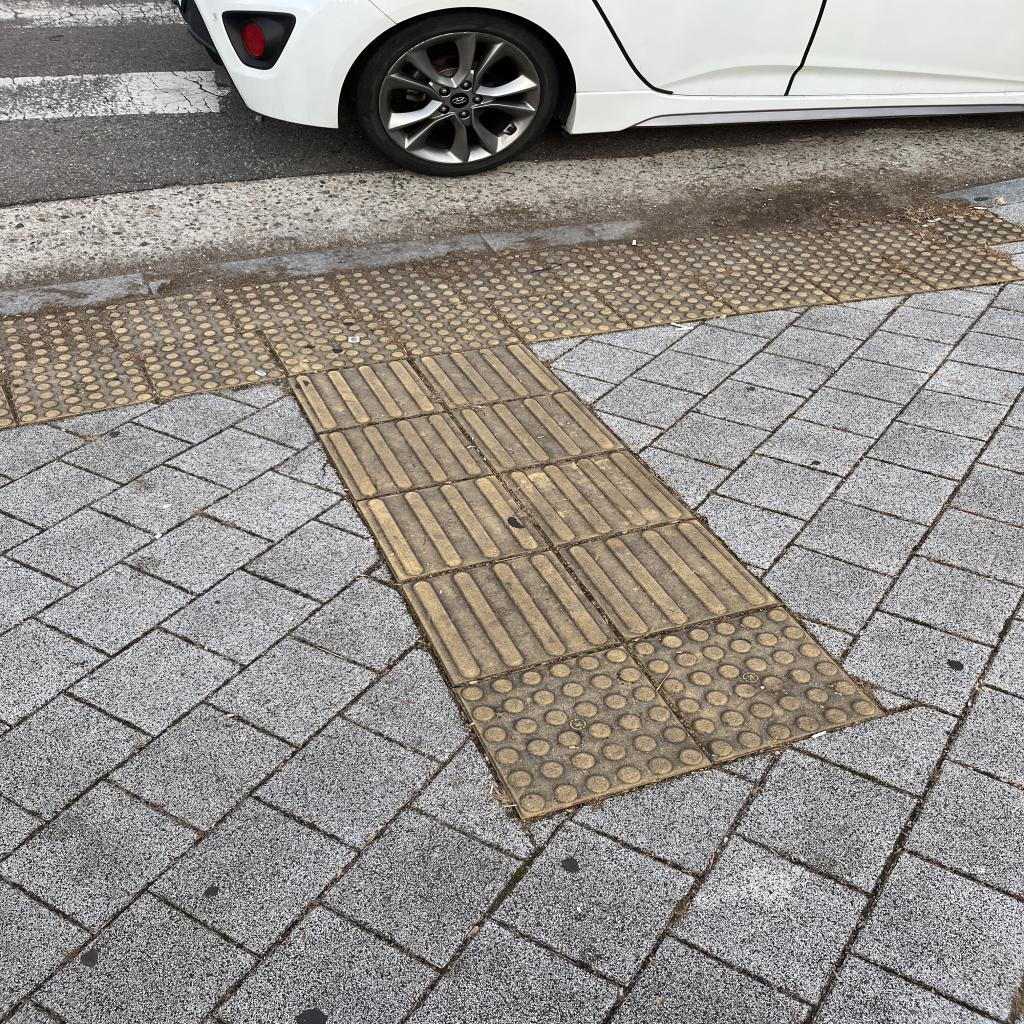Straight block normal: (404, 540, 620, 689), (502, 437, 692, 553)
